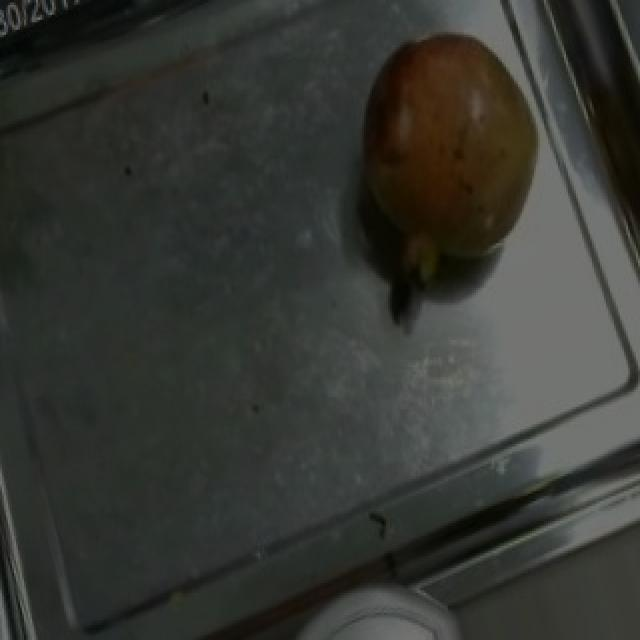fruit: (334, 0, 546, 273), (284, 590, 484, 640)
